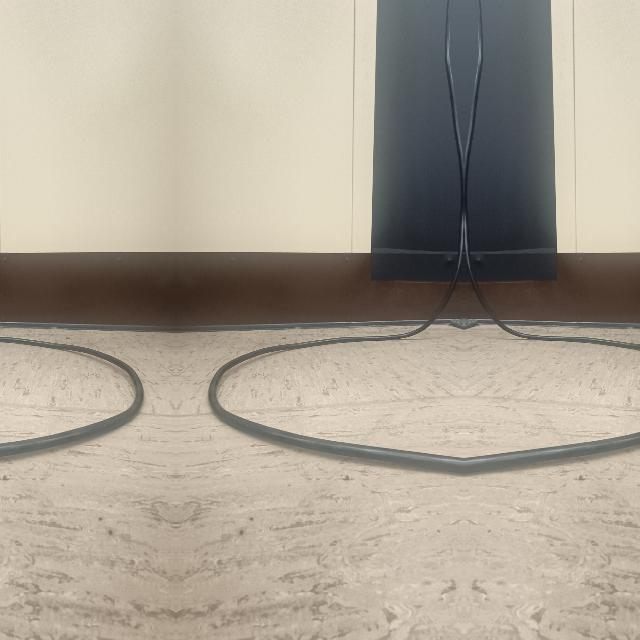obstacle: (208, 334, 460, 478), (466, 334, 640, 477), (0, 334, 142, 477)
